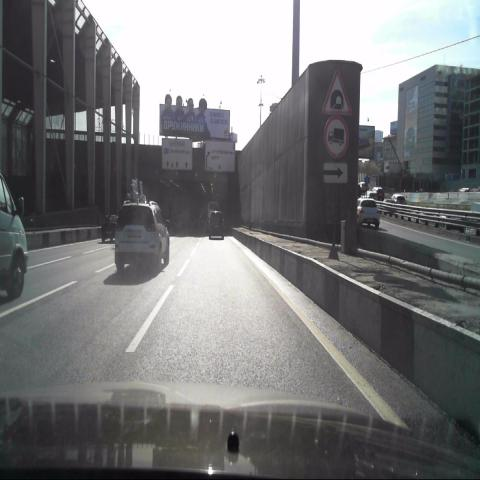1_31: (320, 69, 354, 117)
3_4_1: (324, 114, 349, 160)
8_3_1: (323, 160, 348, 182)
